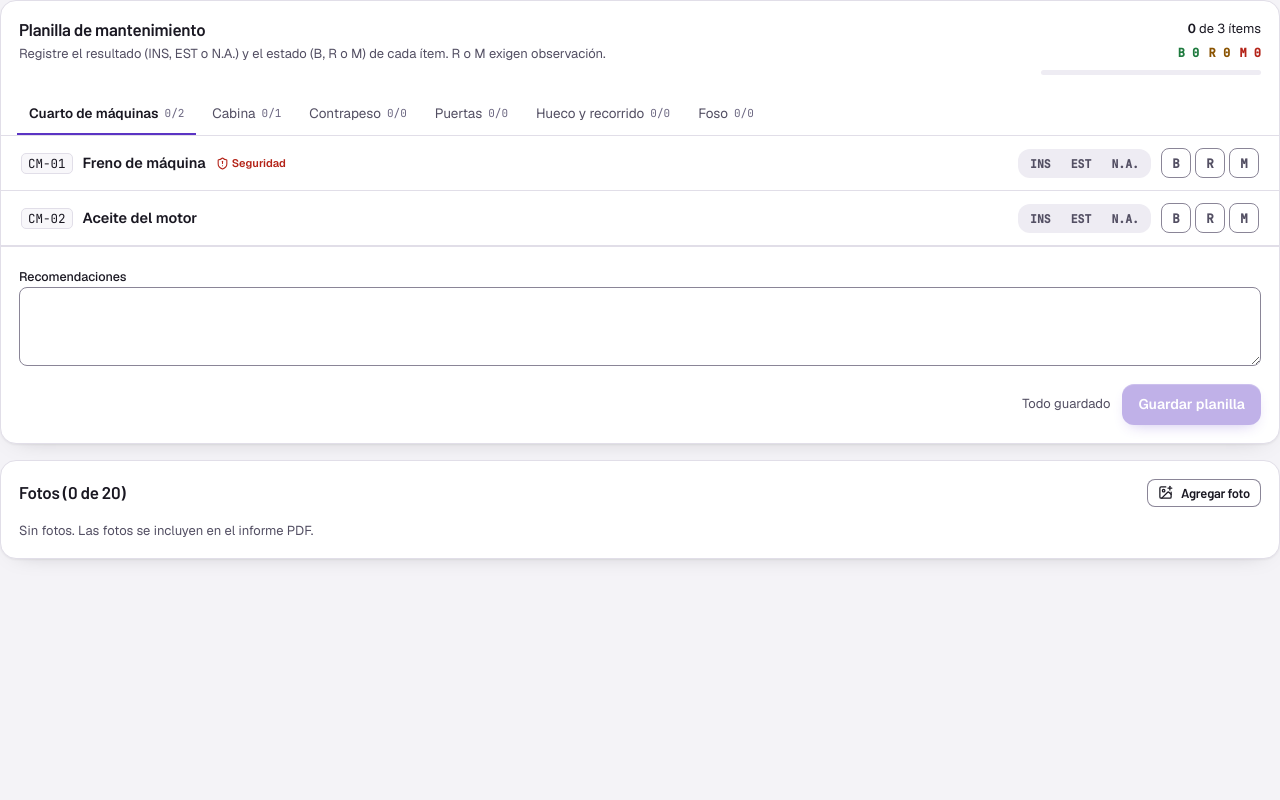
Test: planilla de mantenimiento (fase 4) › exige observación en estado Malo y luego envía el ítem
Check: the text "Freno de máquina" is shown, box x1=82 y1=152 x2=206 y2=174
Click the radio button labelled "INS" in the row of "CM-01".
click(1040, 163)  # box x1=1021 y1=152 x2=1060 y2=175
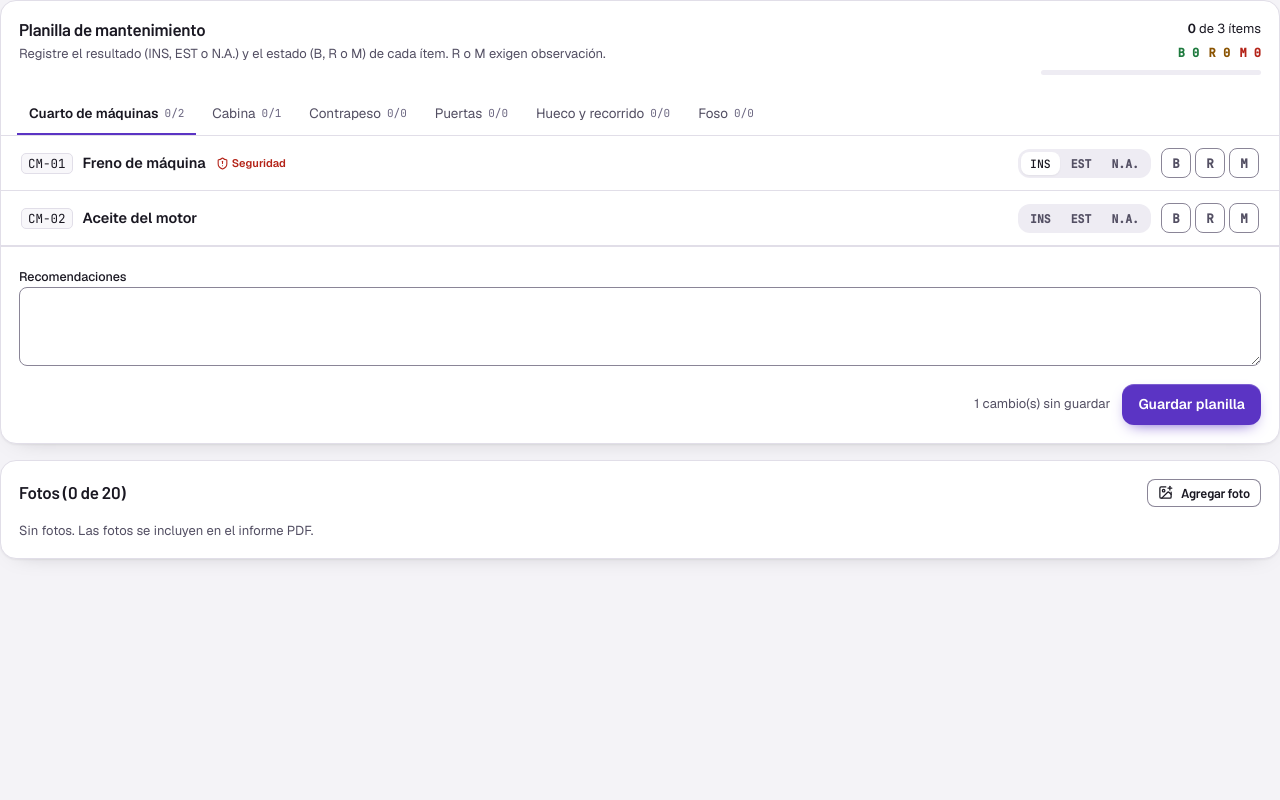
Click the radio button labelled "M" in the row of "CM-01".
click(1244, 163)  # box x1=1229 y1=148 x2=1259 y2=178
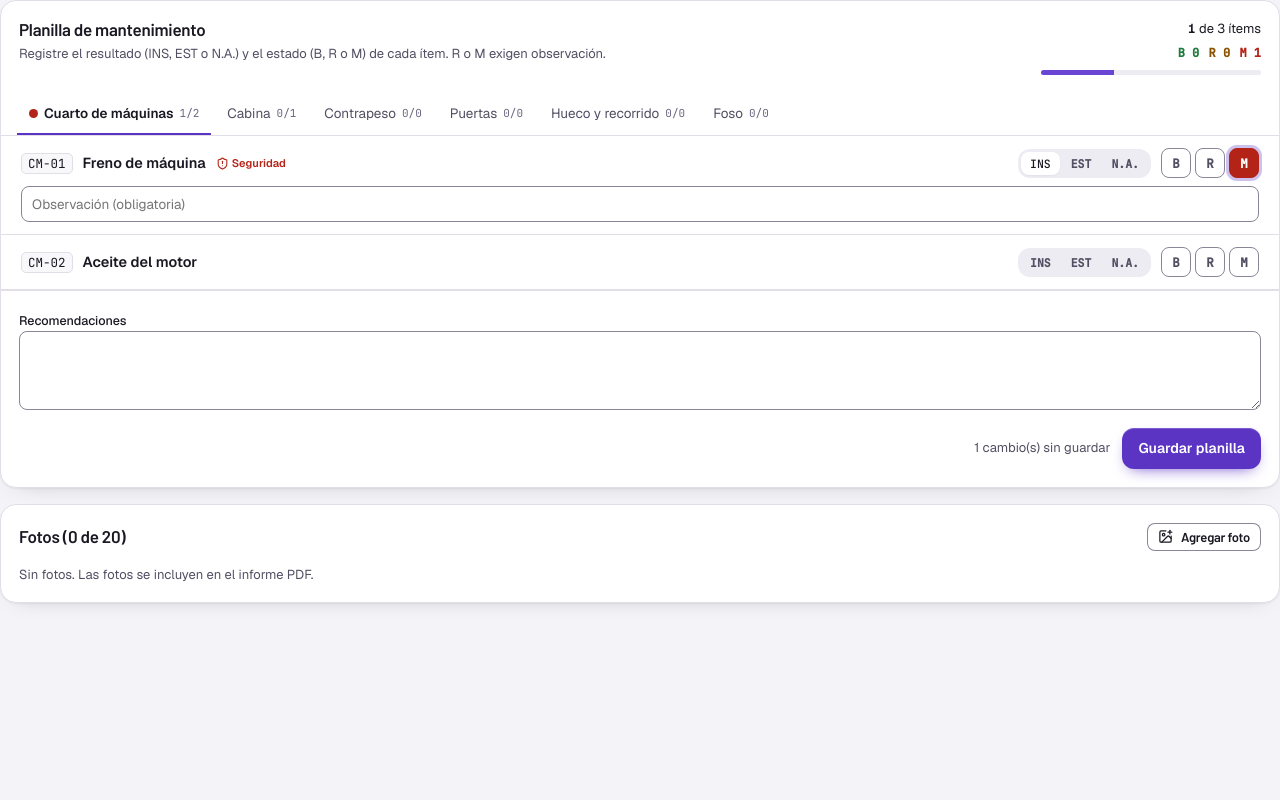
Click the button "Guardar planilla".
click(1192, 448)  # box x1=1122 y1=428 x2=1261 y2=468
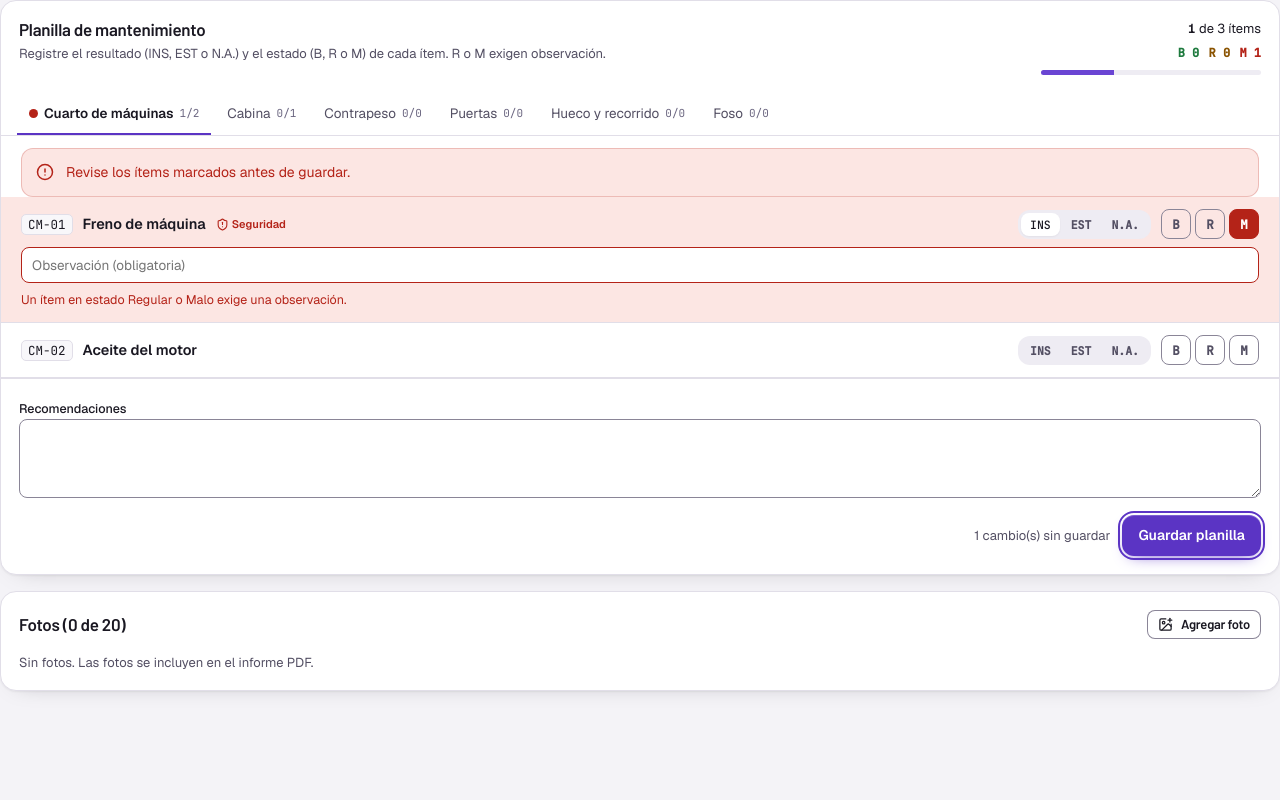
Check: the text "Un ítem en estado Regular o Malo exige una observación." is shown, box x1=21 y1=291 x2=346 y2=308
Type "Zapata gastada" into the field named "Observación de Freno de máquina".
click(640, 265); type("Zapata gastada")  # box x1=21 y1=247 x2=1259 y2=283
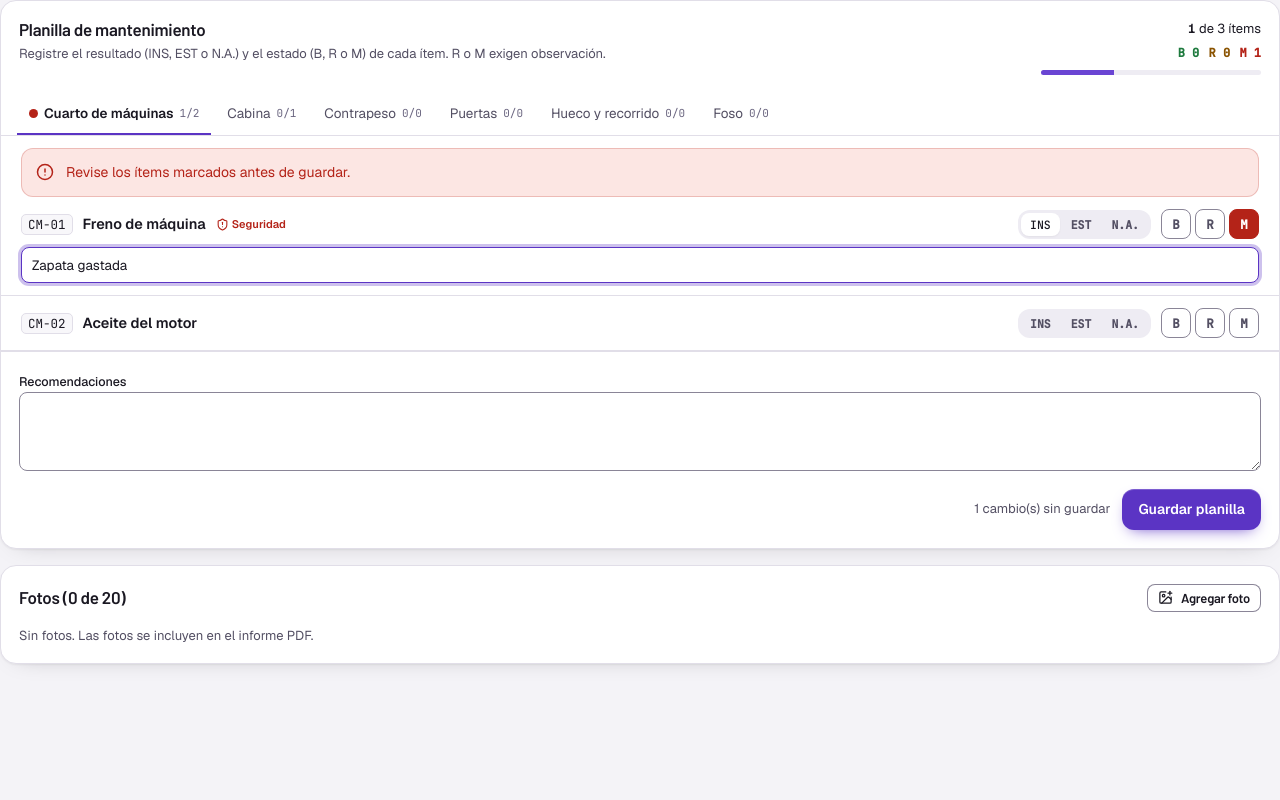
Click the button "Guardar planilla".
click(1192, 509)  # box x1=1122 y1=488 x2=1261 y2=530
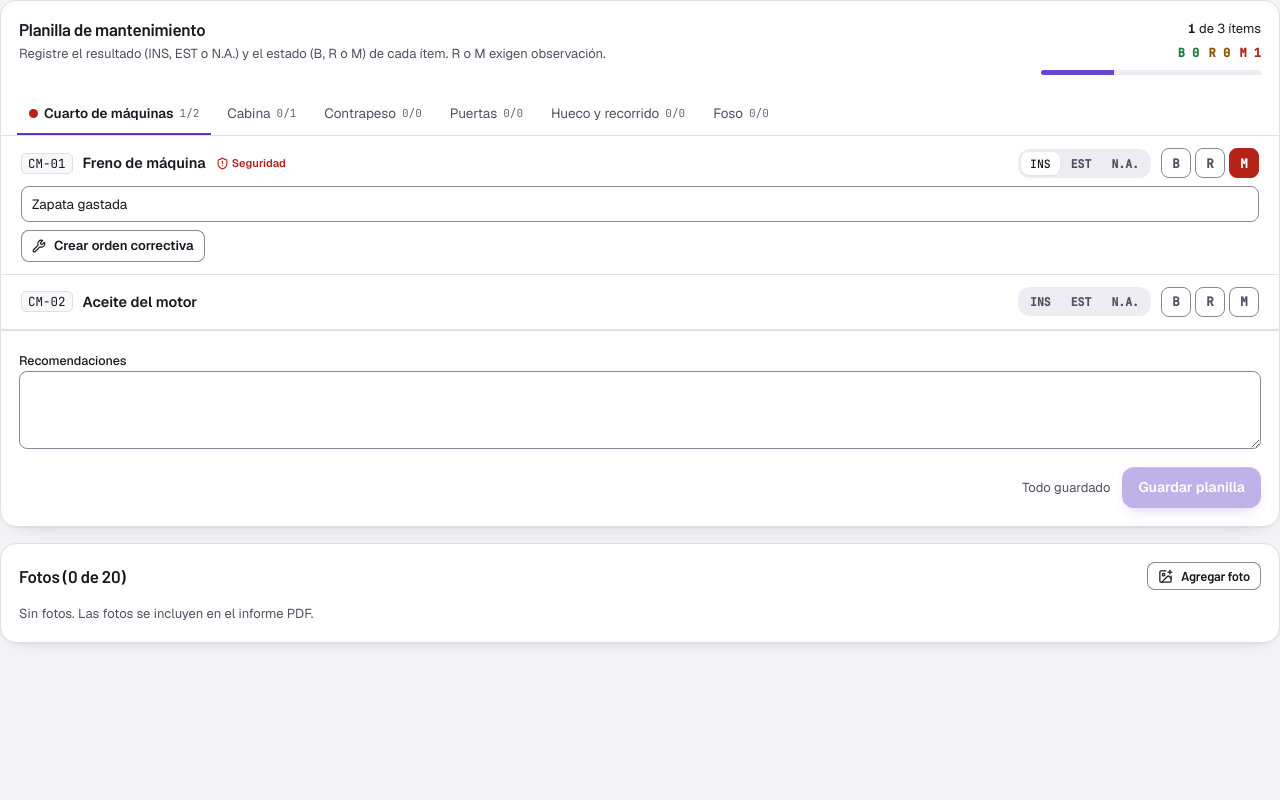
Check: the button "Crear orden correctiva" is shown, box x1=21 y1=230 x2=205 y2=262
